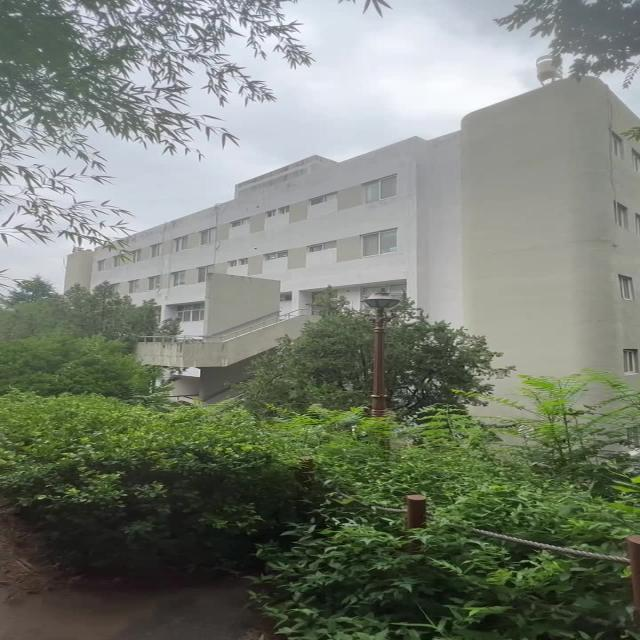building: (181, 126, 640, 308)
